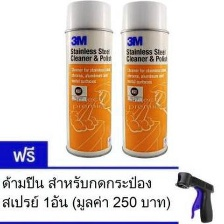aerosol_cans: (116, 0, 173, 160), (64, 0, 115, 160)
